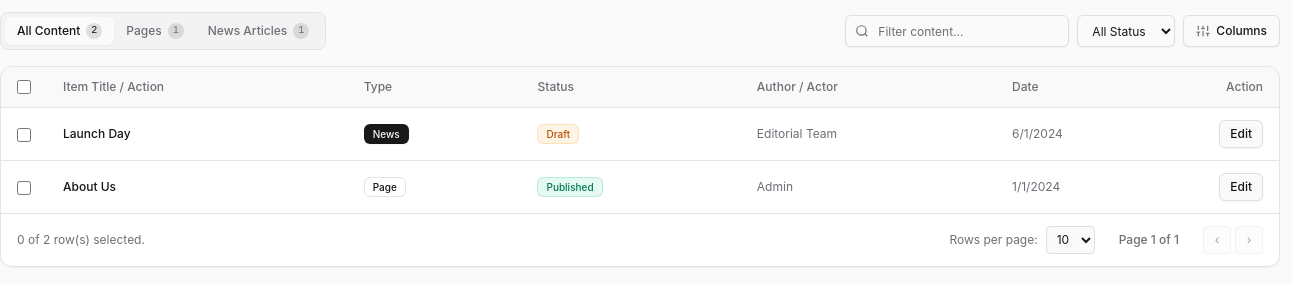
it: DataTable › filters rows by the search box across title and author
Expected: the text "About Us" is shown, top-left (63, 178), bottom-right (116, 194)
Step 1. Type "launch" into the field with placeholder "Filter content..." → (957, 31), box top-left (845, 15), bottom-right (1069, 47)
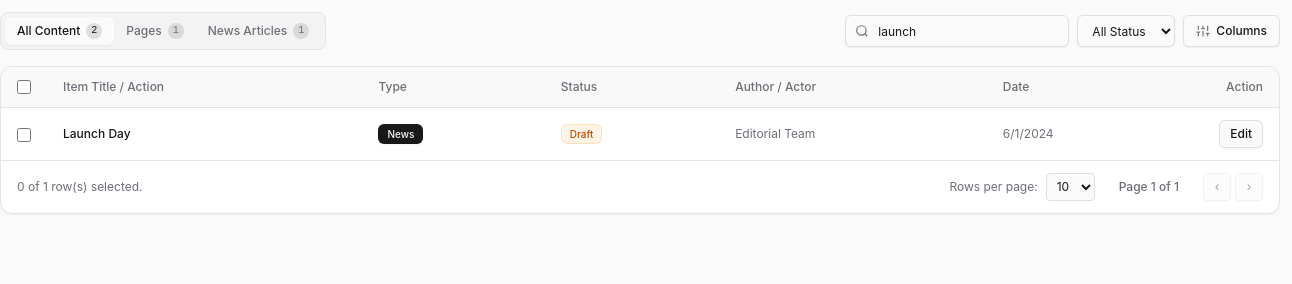
Expected: the text "Launch Day" is shown, top-left (63, 126), bottom-right (131, 140)
Now the text "About Us" is gone
